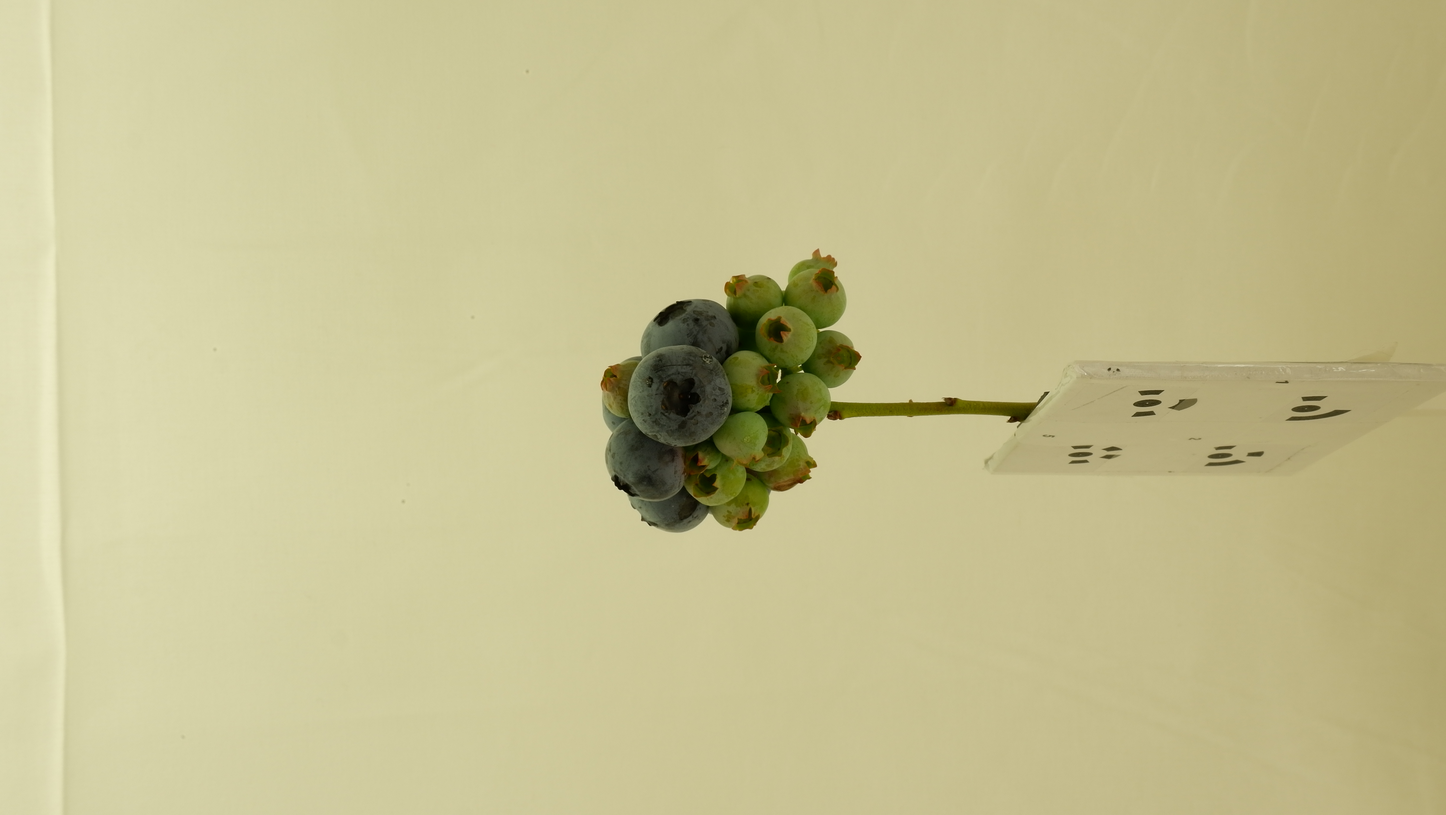Immature: (769, 373, 831, 439), (751, 432, 818, 493), (755, 306, 818, 369), (783, 269, 848, 329), (720, 351, 780, 413), (798, 330, 862, 388), (725, 273, 783, 336), (711, 473, 770, 532), (683, 454, 747, 506), (709, 412, 768, 467), (601, 360, 641, 419), (747, 426, 792, 473), (787, 247, 837, 285), (686, 437, 722, 474)
Mature: (627, 345, 731, 446), (604, 418, 687, 501), (641, 298, 741, 365), (626, 485, 711, 534), (602, 396, 630, 432)
